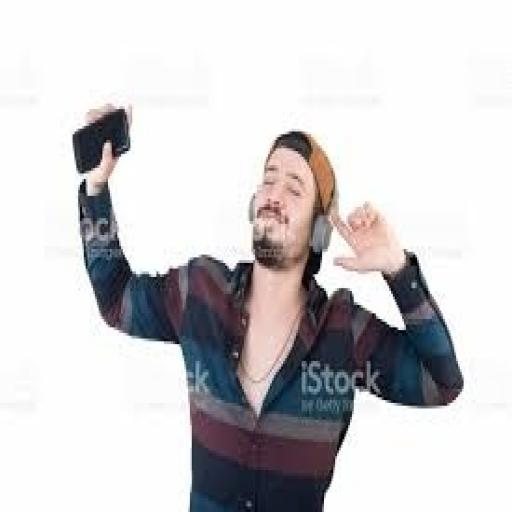listening_to_music: (73, 98, 467, 509)
